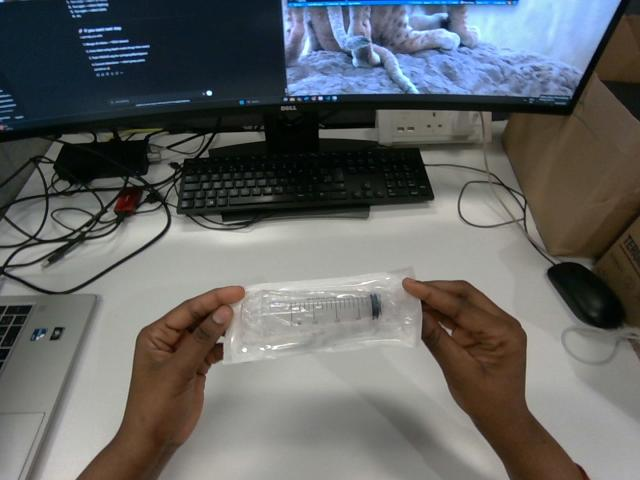syringe: (224, 269, 421, 363)
